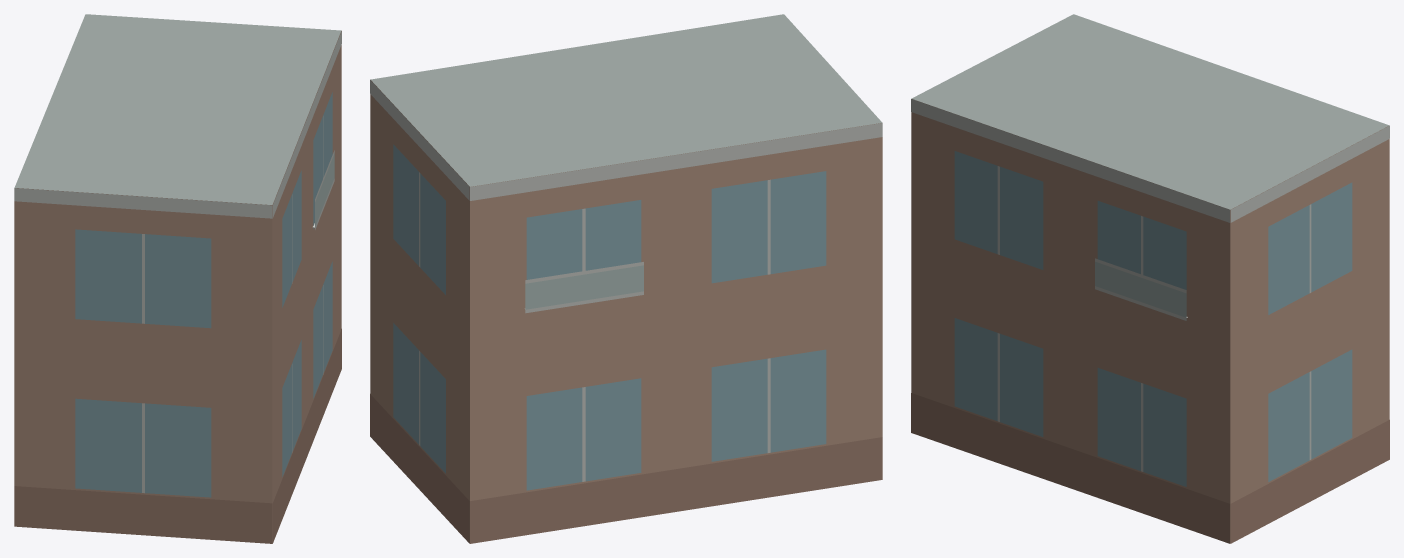
The model's file is survey-upis-32818183.glb.
3 renders of one model, left to right at view 1: azimuth 30°, elevation 25°; view 2: azimuth 150°, elevation 25°; view 3: azimuth 270°, elevation 25°, orthographic. The views are drawn at different scales.
Parts seen in each view (by area): view 1: survey-upis-32818183.tmp; view 2: survey-upis-32818183.tmp; view 3: survey-upis-32818183.tmp.
Part boxes in pixels (left/top/right/bottom): survey-upis-32818183.tmp: left=14, top=14, right=341, bottom=543; survey-upis-32818183.tmp: left=370, top=14, right=882, bottom=543; survey-upis-32818183.tmp: left=911, top=14, right=1389, bottom=543.
Size of the model in its own units: 7.67 by 6.1 by 7.93.
